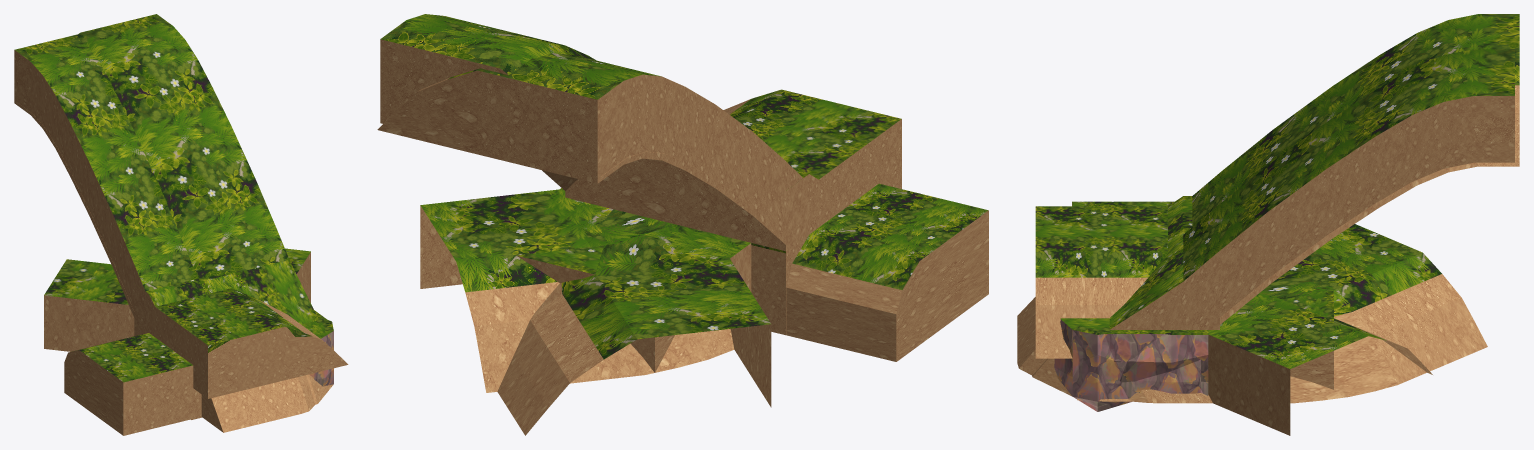
File: ModKit.fbx
3 views of the same model, side by side, from view 1: azimuth 30°, elevation 25°; view 2: azimuth 150°, elevation 25°; view 3: azimuth 270°, elevation 25° (orthographic). The views are drawn at different scales.
Visible parts, largest first — view 1: Slope Up HIGH R, Slope Up HIGH, 4x4Slope001, InwardsCurve, CornerTo45DegTurn, 4x4Corner, 4X4 SlopeUPR, 4X4 SlopeUP, SquareTo45DegTurn, Island Corner 1 side, Island Corner R; view 2: Slope Up HIGH, InwardsCurve, CornerTo45DegTurn, SquareTo45DegTurn, 4x4Slope001, Slope Up HIGH R, 4X4 SlopeUP, 4x4Slope, 4X4 SlopeUPR; view 3: Slope Up HIGH R, CornerTo45DegTurn, 4x4Slope001, Slope Up HIGH, SquareTo45DegTurn, Island Corner R, Island Corner 1 side, InwardsCurve, 4X4 SlopeUPR, 4x4Corner, 4X4 SlopeUP.
Part boxes in pixels (x1,y1,x2,y2): Slope Up HIGH R: (21,14,289,295); Slope Up HIGH: (14,34,201,419); 4x4Slope001: (149,288,348,398); InwardsCurve: (64,333,201,435); CornerTo45DegTurn: (44,259,333,404); 4x4Corner: (201,375,314,432); 4X4 SlopeUPR: (213,260,318,324); 4X4 SlopeUP: (134,278,218,332); SquareTo45DegTurn: (285,248,310,302); Island Corner 1 side: (301,310,333,368); Island Corner R: (309,320,333,386); Slope Up HIGH: (377,52,802,244); InwardsCurve: (516,183,988,372); CornerTo45DegTurn: (497,224,771,435); SquareTo45DegTurn: (420,189,734,392); 4x4Slope001: (723,89,901,234); Slope Up HIGH R: (380,14,773,224); 4X4 SlopeUP: (585,162,818,251); 4x4Slope: (751,194,863,335); 4X4 SlopeUPR: (565,158,664,201); Slope Up HIGH R: (1110,49,1514,329); CornerTo45DegTurn: (1032,224,1487,403); 4x4Slope001: (1035,206,1167,358); Slope Up HIGH: (1077,14,1519,400); SquareTo45DegTurn: (1072,294,1432,435); Island Corner R: (1054,318,1208,411); Island Corner 1 side: (1061,318,1208,399); InwardsCurve: (1072,201,1333,389); 4X4 SlopeUPR: (1109,235,1219,329); 4x4Corner: (1017,297,1131,401); 4X4 SlopeUP: (1168,196,1192,244).
Size of the model in its own units: 424 by 385 by 537.
